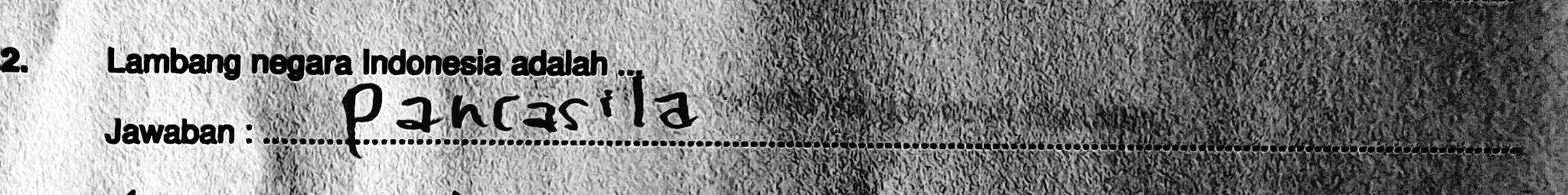jawaban: (336, 78, 698, 142)
